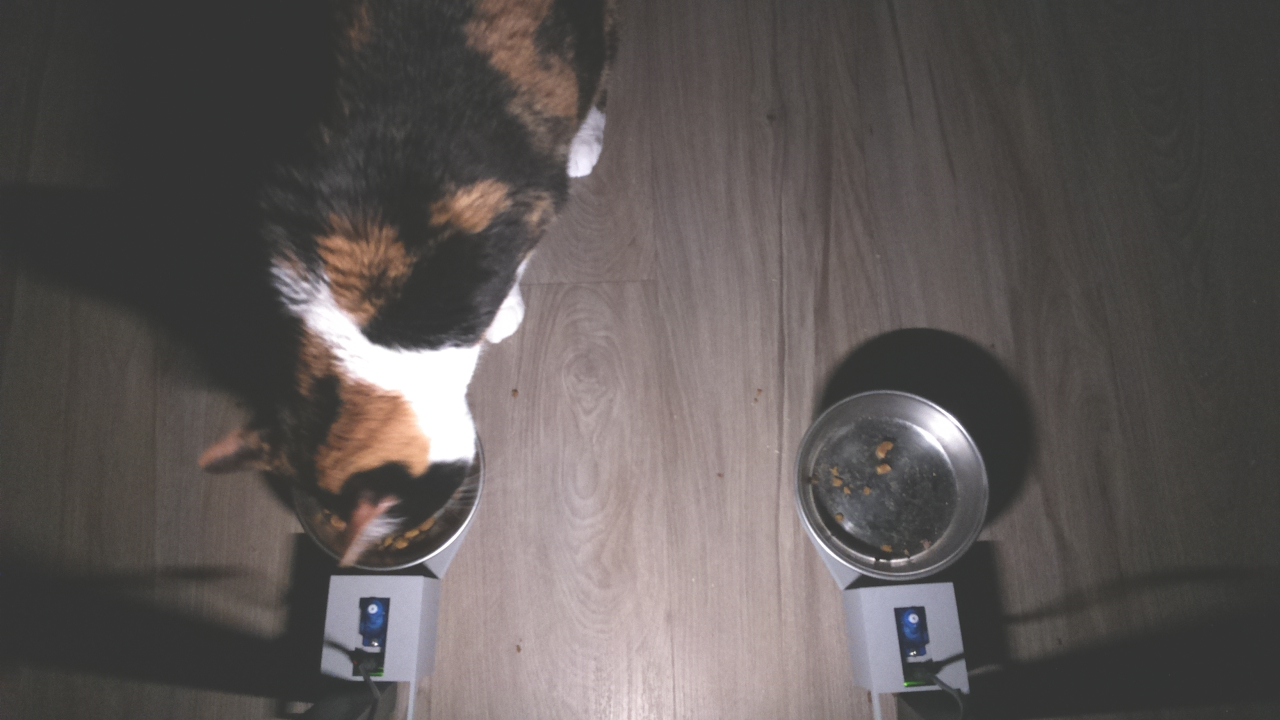bella_eating: (198, 287, 501, 580)
open_bowl: (790, 384, 990, 587)
